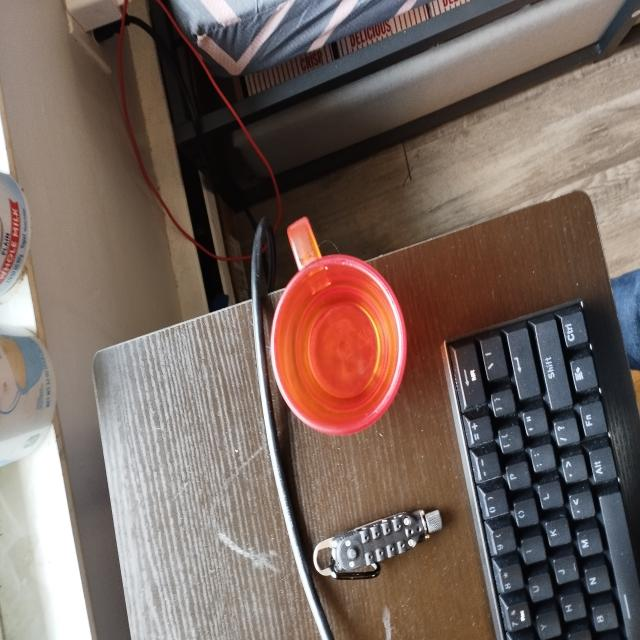Cup: (247, 209, 418, 454)
